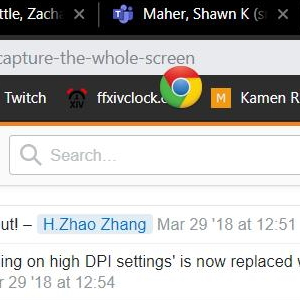chrome: (160, 65, 202, 109)
